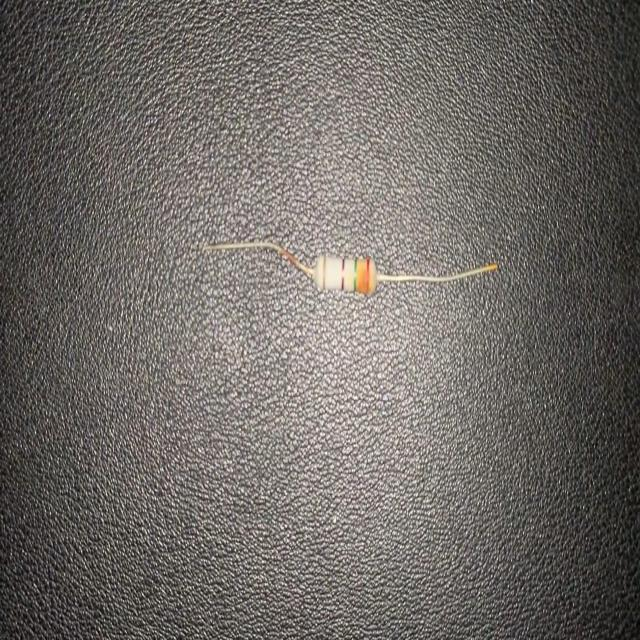burnt: (353, 258, 373, 298)
resistor: (202, 234, 498, 303)
rust: (281, 246, 298, 271), (480, 255, 496, 277)
